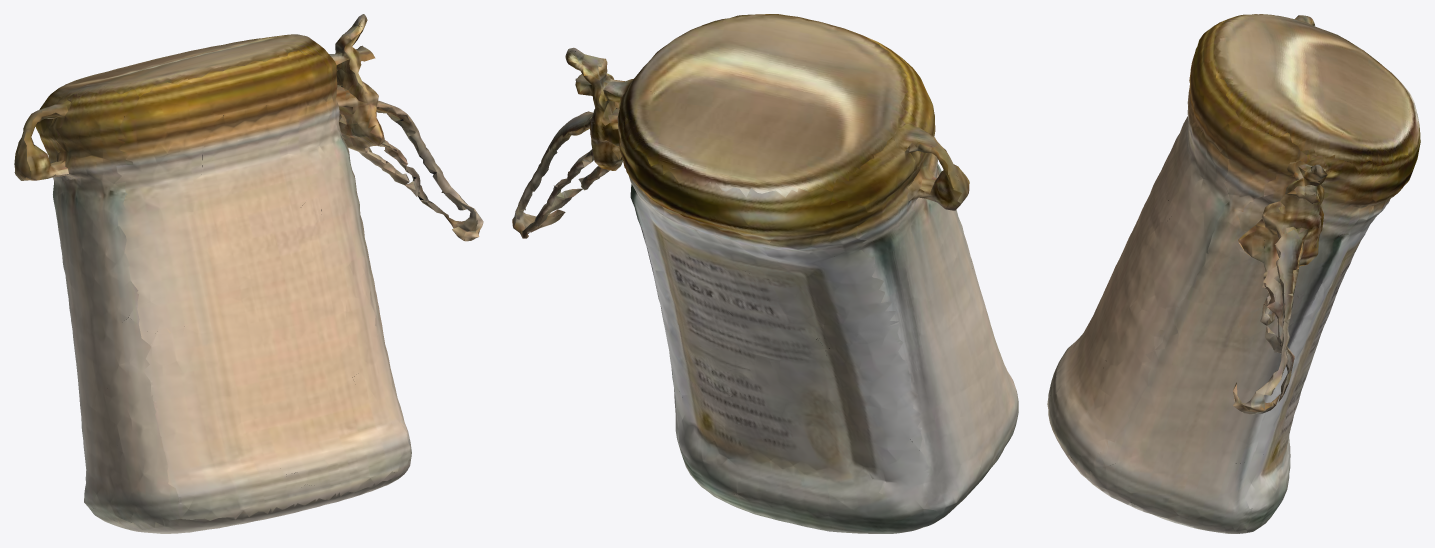
The model's file is 13_16_43_21_glass-specimen-jar-with-brass-fittings-and-parchment-label.glb.
3 renders of one model, left to right at view 1: azimuth 30°, elevation 25°; view 2: azimuth 150°, elevation 25°; view 3: azimuth 270°, elevation 25°, orthographic. The views are drawn at different scales.
Visible parts, largest first — view 1: world; view 2: world; view 3: world.
Boxes of the visible parts, <box> form: world: <box>14,14,483,533</box>; world: <box>512,14,1018,533</box>; world: <box>1047,14,1420,533</box>.
Bounding box in the file's own units: 0.9038 × 0.8789 × 0.664.
1 material, 1 textured.
